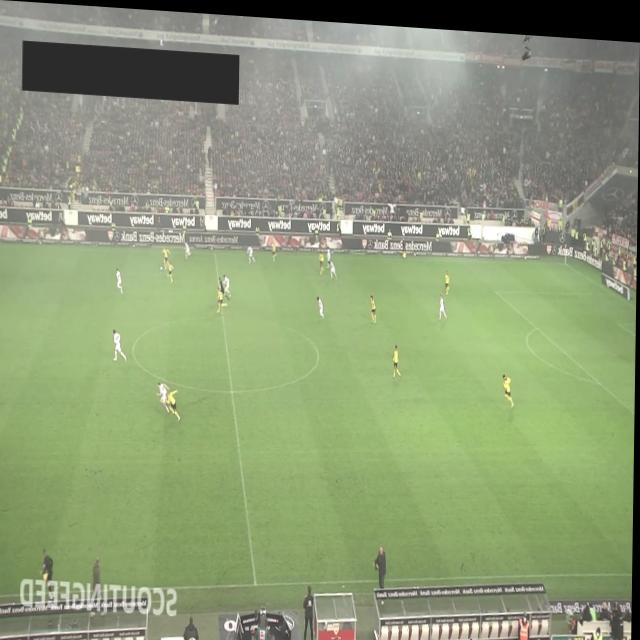player: (167, 379, 182, 420), (113, 326, 128, 361), (503, 367, 516, 401), (393, 338, 402, 374), (162, 243, 172, 269), (439, 288, 448, 315), (224, 271, 232, 297), (117, 266, 125, 292), (371, 289, 378, 318), (318, 292, 326, 315), (167, 258, 175, 280), (248, 242, 257, 261), (218, 283, 224, 310), (445, 263, 451, 289), (330, 256, 338, 275), (319, 246, 325, 270), (185, 239, 191, 258), (272, 239, 277, 258), (328, 242, 332, 263)
referee: (41, 548, 56, 610), (218, 274, 230, 298), (402, 230, 408, 255)
